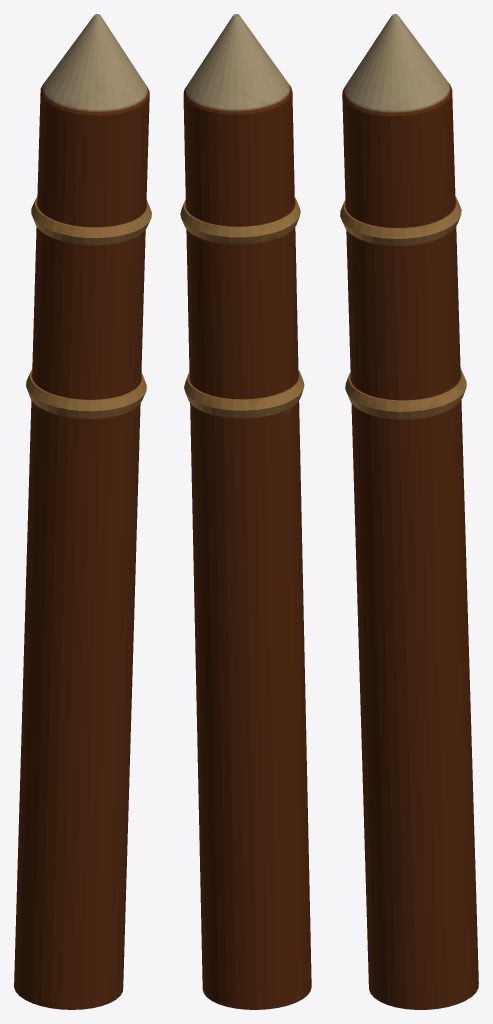
Rendered from Log.fbx.
3 renders of one model, left to right at view 1: azimuth 90°, elevation 25°; view 2: azimuth 210°, elevation 25°; view 3: azimuth 270°, elevation 25°, orthographic.
Visible parts, largest first — view 1: Cylinder; view 2: Cylinder; view 3: Cylinder.
Boxes of the visible parts, x1=… form: Cylinder: x1=14, y1=14, x2=151, y2=1009; Cylinder: x1=180, y1=14, x2=311, y2=1009; Cylinder: x1=340, y1=14, x2=478, y2=1009.
Bounding box in the file's own units: 223 × 1954 × 252.
